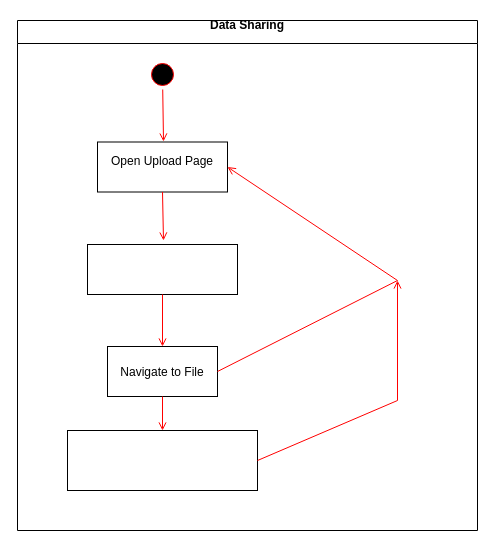
The diagram is 495 pixels wide and 548 high, and some of its shapes have lost their labels. Each missing label, with the centre of its shape:
"Click Download Button" goes at point 162,460.
"Input File and Metadata" goes at point 162,269.
